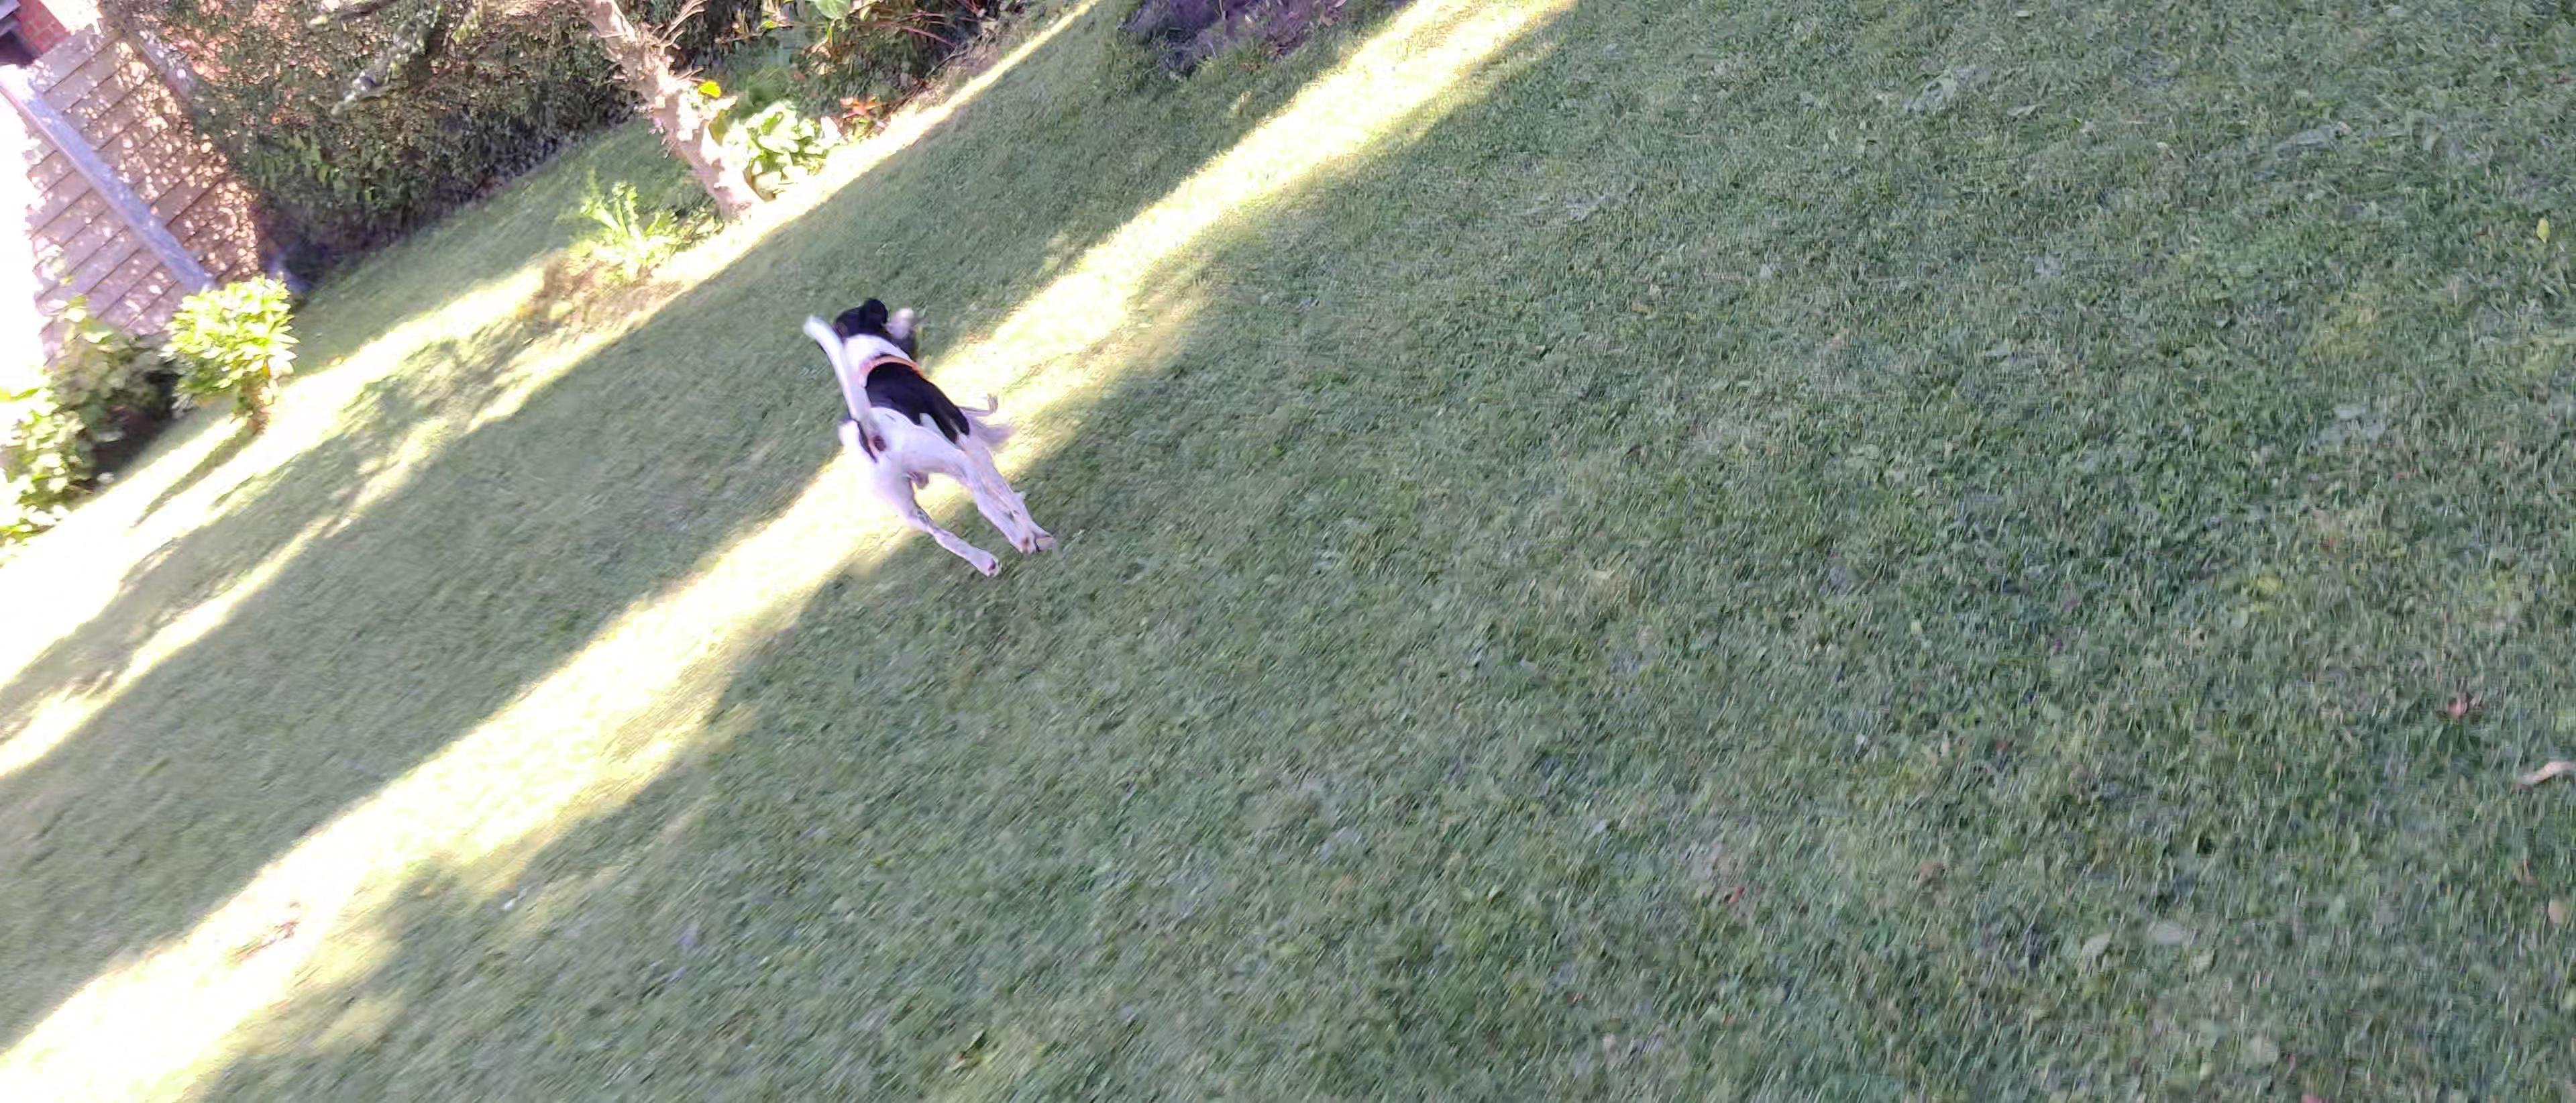Dog: (795, 289, 1061, 593)
